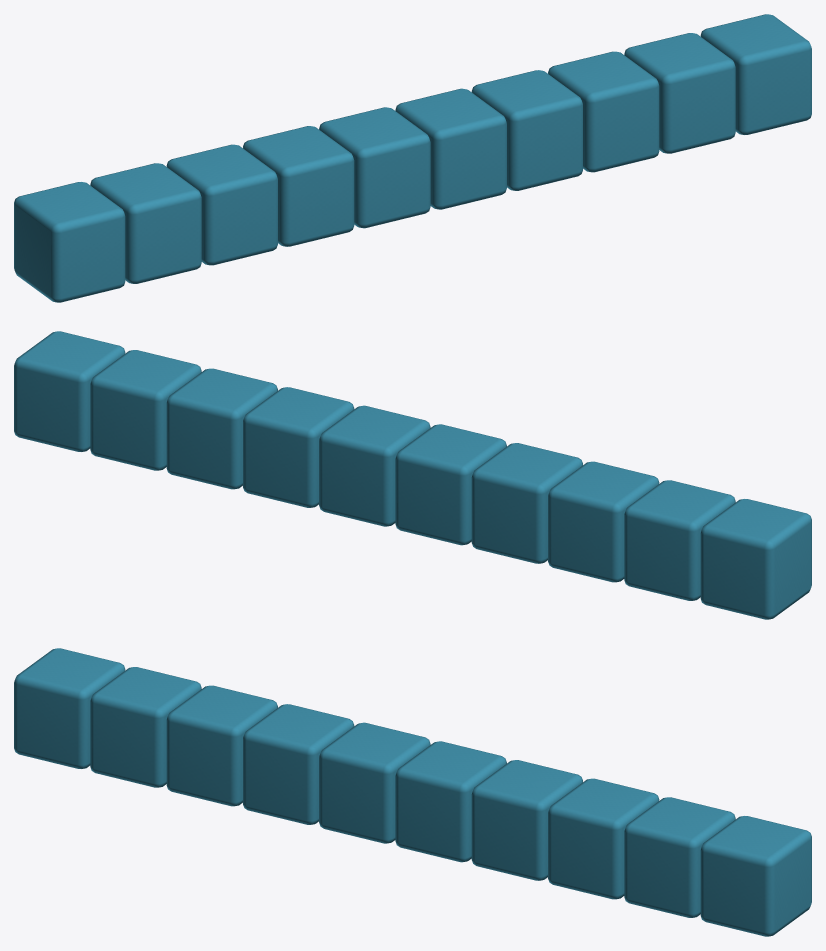
File: ten_bundle.glb
The picture shows the model from 3 angles, top to bottom: view 1: azimuth 30°, elevation 25°; view 2: azimuth 150°, elevation 25°; view 3: azimuth 330°, elevation 25°; orthographic projection.
Parts seen in each view (by area): view 1: unit_0, unit_5, unit_7, unit_1, unit_2, unit_3, unit_4, unit_9, unit_8, unit_6; view 2: unit_0, unit_5, unit_7, unit_1, unit_2, unit_3, unit_4, unit_9, unit_8, unit_6; view 3: unit_9, unit_2, unit_4, unit_7, unit_8, unit_0, unit_5, unit_6, unit_1, unit_3.
Part boxes in pixels (x1,y1,x2,y2): unit_0: [14, 182, 125, 302]; unit_5: [395, 88, 506, 209]; unit_7: [548, 51, 659, 172]; unit_1: [90, 163, 201, 283]; unit_2: [166, 144, 277, 265]; unit_3: [243, 126, 354, 246]; unit_4: [319, 107, 430, 228]; unit_9: [700, 14, 811, 134]; unit_8: [624, 33, 735, 153]; unit_6: [471, 70, 582, 190]; unit_0: [700, 499, 811, 619]; unit_5: [319, 405, 430, 526]; unit_7: [166, 368, 277, 489]; unit_1: [624, 480, 735, 600]; unit_2: [548, 461, 659, 582]; unit_3: [471, 443, 582, 563]; unit_4: [395, 424, 506, 545]; unit_9: [14, 331, 125, 451]; unit_8: [90, 350, 201, 470]; unit_6: [243, 387, 354, 507]; unit_9: [700, 816, 811, 936]; unit_2: [166, 685, 277, 806]; unit_4: [319, 722, 430, 843]; unit_7: [548, 778, 659, 899]; unit_8: [624, 797, 735, 917]; unit_0: [14, 648, 125, 768]; unit_5: [395, 741, 506, 862]; unit_6: [471, 760, 582, 880]; unit_1: [90, 667, 201, 787]; unit_3: [243, 704, 354, 824].
Bounding box in the file's own units: 2.09 × 0.21 × 0.21.
1 material, 1 textured.
